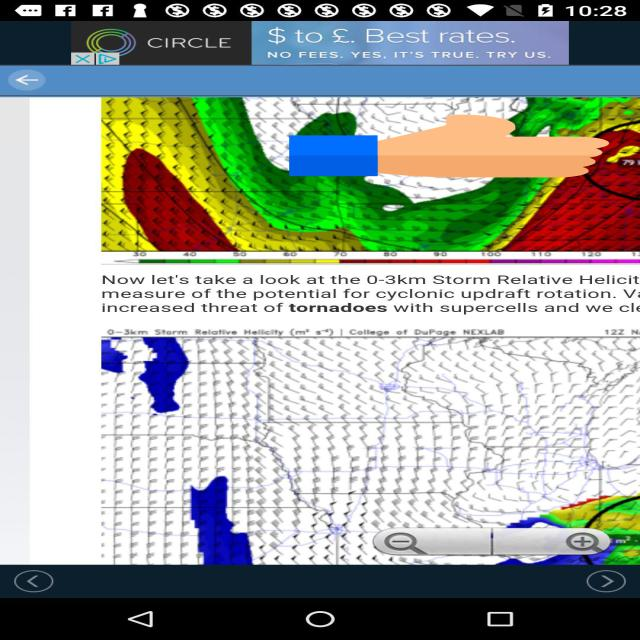privacy zuckering: (289, 113, 609, 179)
